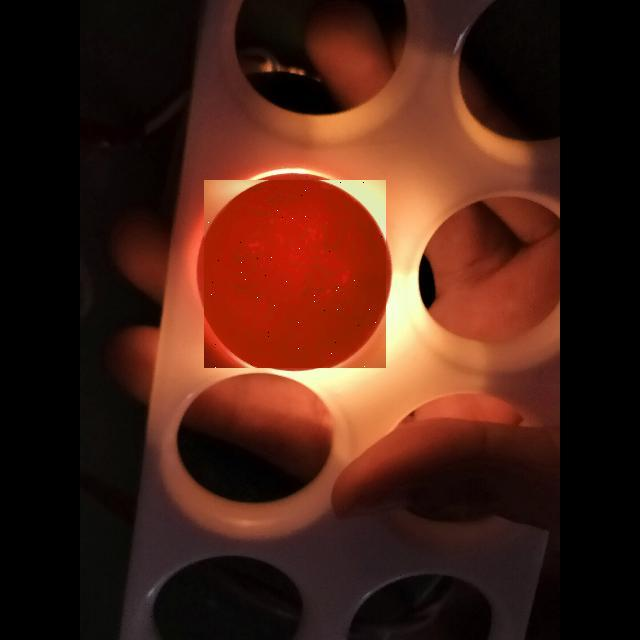Infertile: (204, 180, 386, 368)
